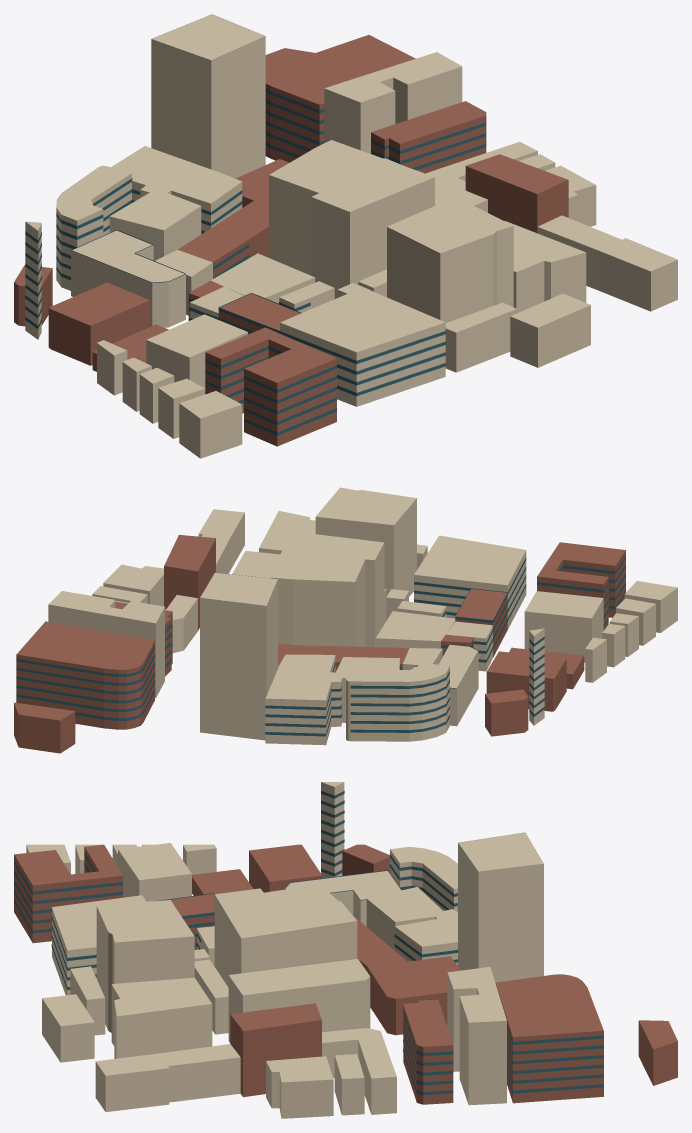
File: city_-4_2.glb
3 renders of one model, top to bottom at view 1: azimuth 30°, elevation 25°; view 2: azimuth 150°, elevation 25°; view 3: azimuth 270°, elevation 25°, orthographic. The views are drawn at different scales.
Parts seen in each view (by area): view 1: city_-4_2; view 2: city_-4_2; view 3: city_-4_2.
Boxes of the visible parts, <box> form: city_-4_2: <box>14,14,677,458</box>; city_-4_2: <box>14,487,677,753</box>; city_-4_2: <box>14,782,677,1118</box>.
Size of the model in its own units: 210 by 61.25 by 248.
